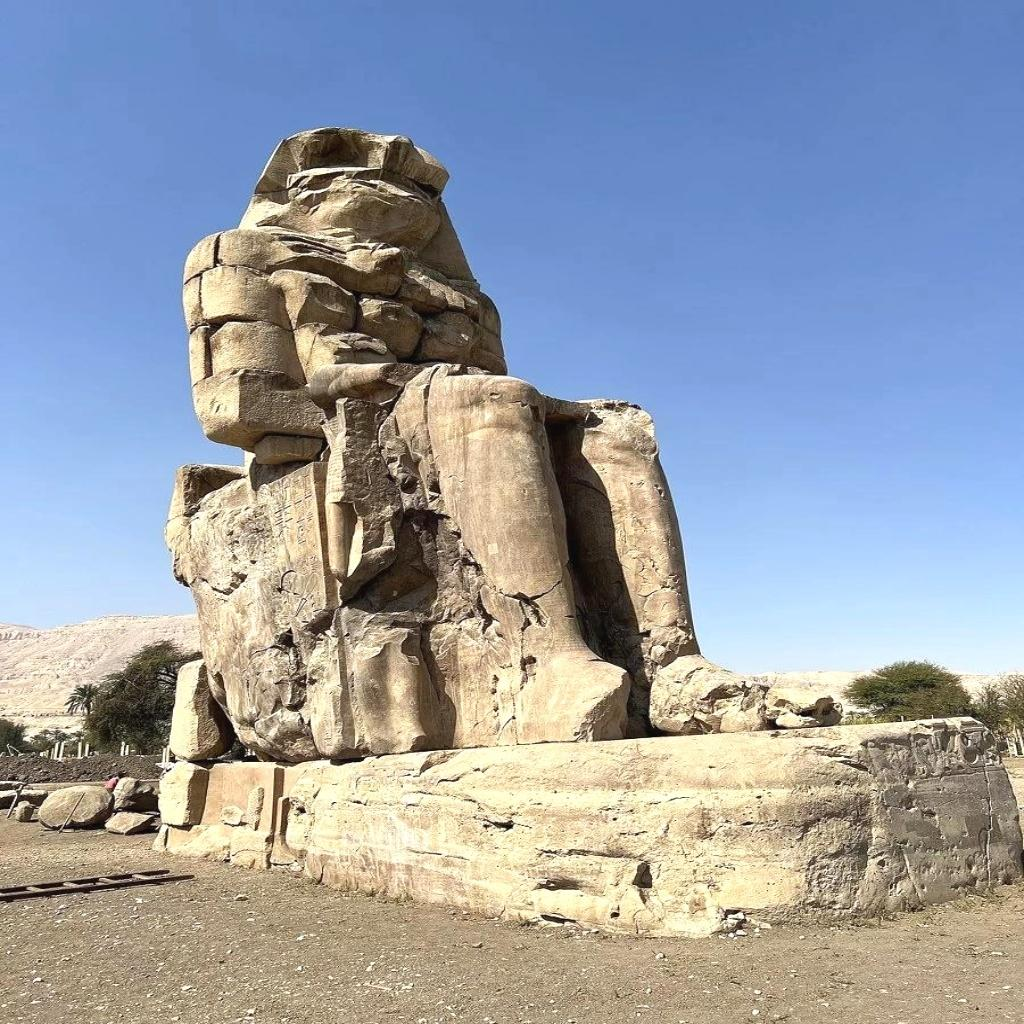Colossoi of Memnon: (158, 124, 728, 763)
